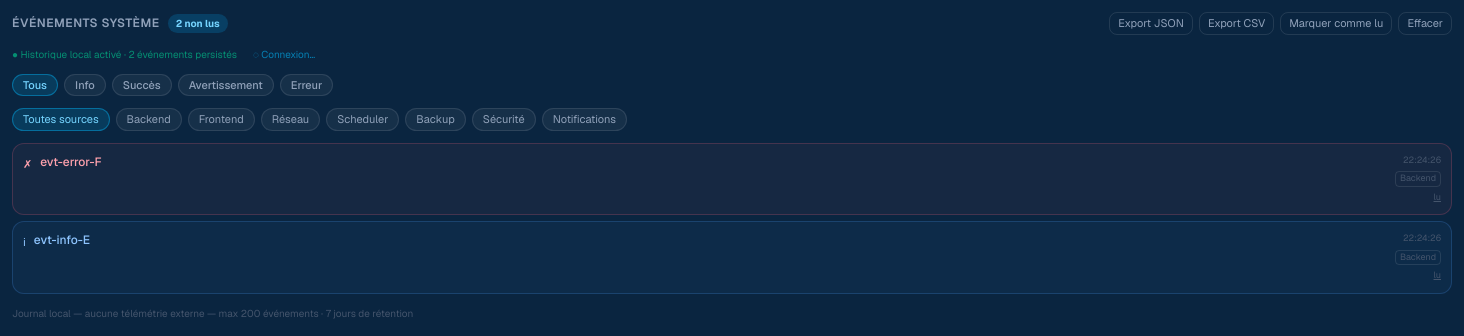
Test: SystemEventsPanel — filtrage › filtre "Tous" réaffiche les événements masqués
Click the button "Erreur". click: [307, 85]
box: [280, 74, 333, 96]
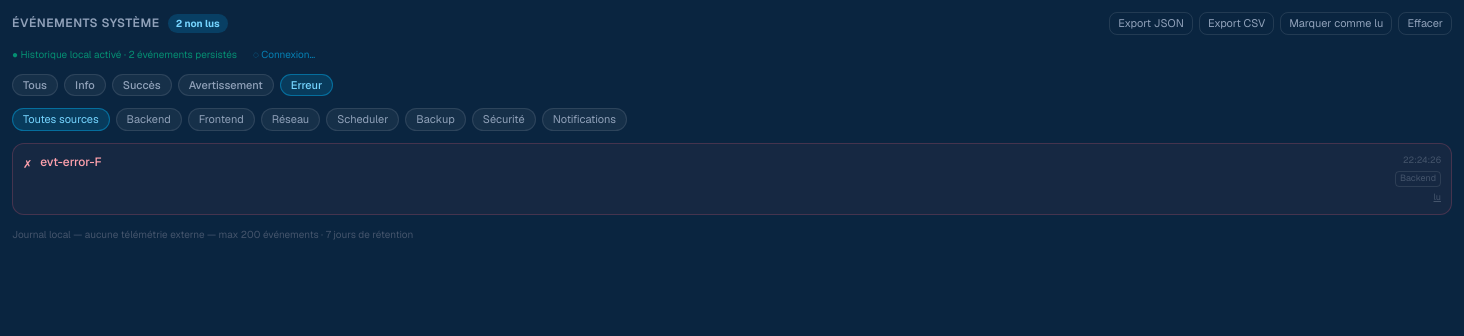
Expected: the text "evt-info-E" is gone
Click the button "Tous". click: [35, 85]
box: [12, 74, 58, 96]
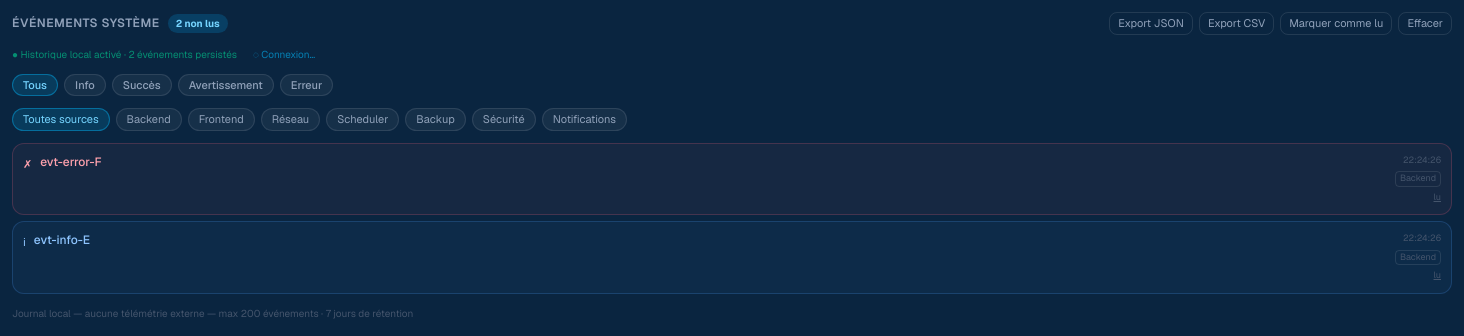
Expected: the text "evt-error-F" is shown, [40, 154, 102, 170]
Expected: the text "evt-info-E" is shown, [34, 232, 90, 248]
